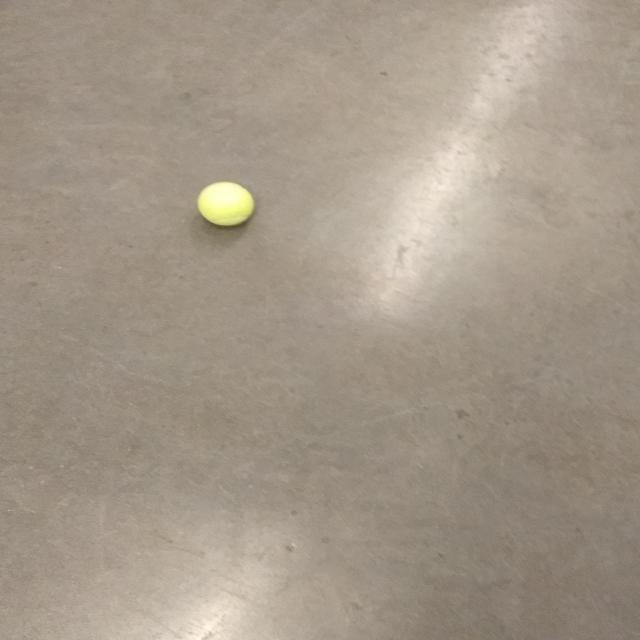tennis-ball: (198, 178, 257, 228)
